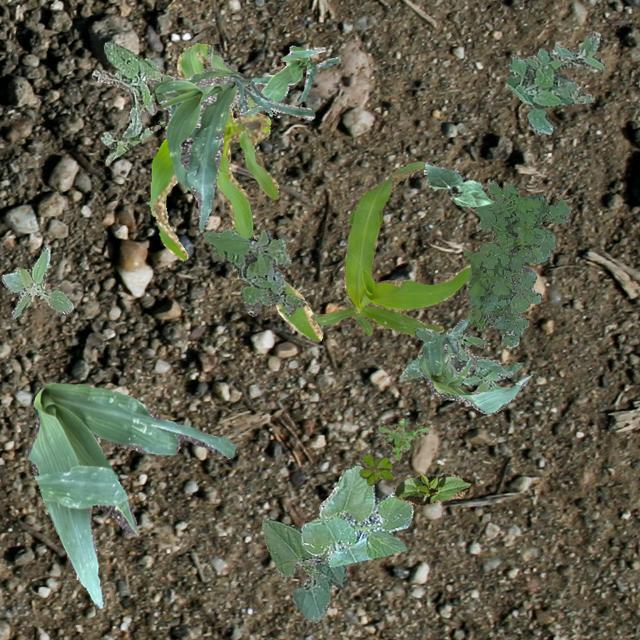crop: (148, 42, 322, 340), (26, 382, 234, 608), (152, 44, 314, 230), (310, 160, 470, 334), (300, 464, 412, 566), (418, 318, 530, 412), (260, 518, 346, 622), (238, 44, 340, 116), (424, 160, 494, 206), (392, 472, 471, 503)
weed: (462, 180, 570, 346), (506, 30, 602, 134), (90, 40, 164, 164), (202, 228, 304, 316), (400, 326, 520, 392), (0, 246, 72, 316), (376, 418, 429, 458), (358, 452, 392, 484)
